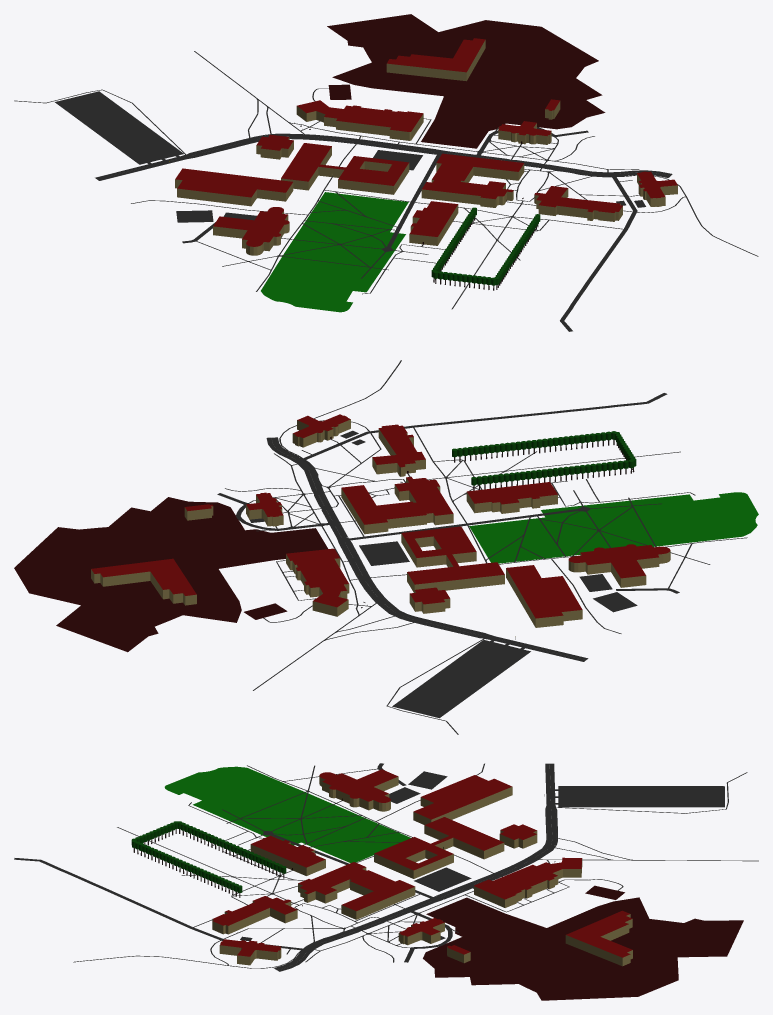
Rendered from map2.obj.
3 renders of one model, top to bottom at view 1: azimuth 30°, elevation 25°; view 2: azimuth 150°, elevation 25°; view 3: azimuth 270°, elevation 25°, orthographic. The views are drawn at different scales.
Parts seen in each view (by area): view 1: SurfaceArea North Campus Housing, SurfaceArea Denny Yard, Building Art Building, SurfaceParking N5, Building Paccar Hall, Building Hutchinson Hall, Building Madrona Hall, Road East Stevens Way Northeast, Building Denny Hall, Building Mackenzie Hall, TreeRow Quad Cherry Trees, Building Music Building (+6 smaller); view 2: SurfaceArea North Campus Housing, SurfaceArea Denny Yard, SurfaceParking N5, Building Art Building, TreeRow Quad Cherry Trees, Building Paccar Hall, Building Hutchinson Hall, Building Denny Hall, Road East Stevens Way Northeast, Building Madrona Hall, Building Mackenzie Hall, Building Dempsey Hall (+8 smaller); view 3: SurfaceArea North Campus Housing, SurfaceArea Denny Yard, Building Art Building, SurfaceParking N5, TreeRow Quad Cherry Trees, Building Paccar Hall, Building Hutchinson Hall, Road East Stevens Way Northeast, Building Denny Hall, Building Madrona Hall, Building Mackenzie Hall, Building Dempsey Hall (+8 smaller).
Part boxes in pixels (x1,y1,x2,y2): SurfaceArea North Campus Housing: (327, 14, 605, 148); SurfaceArea Denny Yard: (261, 192, 408, 312); Building Art Building: (421, 153, 524, 207); SurfaceParking N5: (55, 91, 183, 164); Building Paccar Hall: (175, 168, 293, 206); Building Hutchinson Hall: (296, 100, 423, 140); Building Madrona Hall: (386, 38, 485, 81); Road East Stevens Way Northeast: (95, 133, 672, 180); Building Denny Hall: (213, 207, 289, 255); Building Mackenzie Hall: (338, 156, 409, 194); TreeRow Quad Cherry Trees: (431, 207, 540, 290); Building Music Building: (534, 186, 622, 221); SurfaceArea North Campus Housing: (14, 497, 327, 652); SurfaceArea Denny Yard: (469, 492, 758, 563); SurfaceParking N5: (392, 640, 530, 718); Building Art Building: (341, 476, 453, 534); TreeRow Quad Cherry Trees: (452, 431, 636, 490); Building Paccar Hall: (506, 565, 582, 627); Building Hutchinson Hall: (286, 548, 349, 616); Building Denny Hall: (568, 544, 670, 587); Road East Stevens Way Northeast: (266, 437, 588, 661); Building Madrona Hall: (91, 558, 196, 605); Building Mackenzie Hall: (401, 526, 476, 567); Building Dempsey Hall: (407, 554, 504, 592); SurfaceArea North Campus Housing: (423, 897, 743, 1000); SurfaceArea Denny Yard: (164, 766, 410, 862); Building Art Building: (298, 862, 415, 919); SurfaceParking N5: (558, 786, 724, 807); TreeRow Quad Cherry Trees: (131, 821, 286, 897); Building Paccar Hall: (413, 775, 512, 824); Building Hutchinson Hall: (474, 857, 582, 907); Road East Stevens Way Northeast: (274, 763, 557, 971); Building Denny Hall: (319, 769, 398, 811); Building Madrona Hall: (565, 910, 632, 966); Building Mackenzie Hall: (374, 837, 453, 878); Building Dempsey Hall: (424, 817, 504, 859).
Size of the model in its own units: 443 by 10 by 587.
